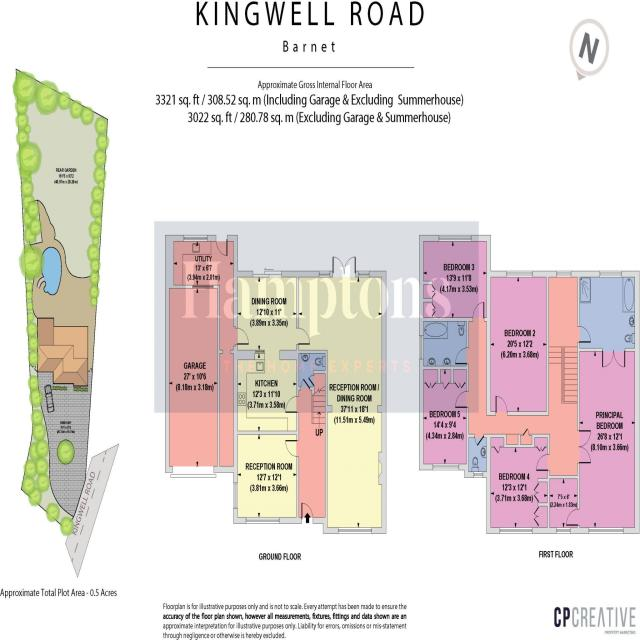DOOR: (233, 326, 249, 347), (215, 235, 228, 257), (472, 301, 485, 322), (285, 439, 299, 458), (301, 502, 313, 524), (495, 395, 508, 415), (566, 508, 580, 526), (536, 453, 550, 471), (577, 325, 591, 343), (455, 347, 469, 365), (296, 327, 310, 345), (455, 391, 469, 408), (285, 396, 299, 413), (474, 434, 484, 447)
DOUBLE DOOR: (576, 428, 592, 466), (601, 347, 627, 370), (332, 254, 356, 277)
ROOM: (296, 256, 386, 534), (233, 270, 311, 435), (577, 348, 640, 534), (486, 271, 549, 416), (486, 434, 550, 534), (419, 235, 491, 322), (233, 430, 299, 524), (419, 366, 469, 471)
SLIDING DOOR: (252, 270, 282, 279)
WINDOW: (337, 526, 372, 535), (588, 527, 624, 534), (245, 517, 280, 524), (499, 527, 533, 534), (438, 235, 472, 242), (432, 463, 460, 471), (506, 271, 533, 278), (183, 235, 208, 242), (599, 271, 622, 278), (233, 482, 238, 509), (556, 270, 572, 278), (419, 335, 424, 360), (556, 527, 571, 534), (358, 271, 370, 278), (319, 271, 330, 278), (473, 471, 483, 478)
